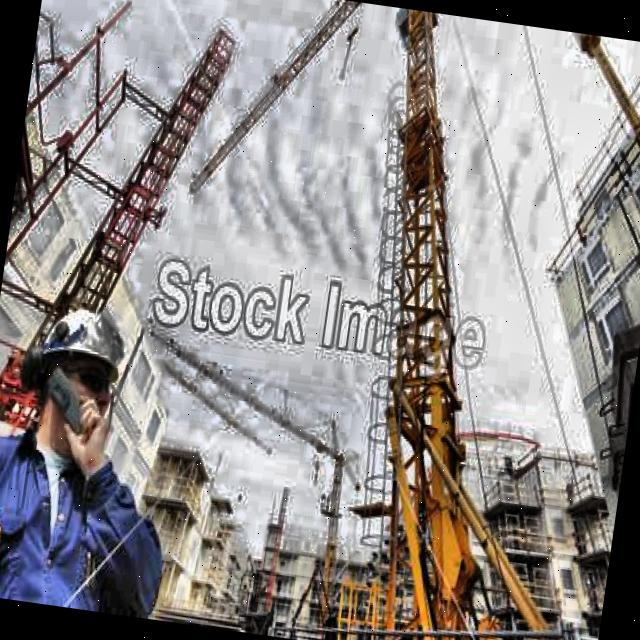helmet: (18, 286, 148, 470)
